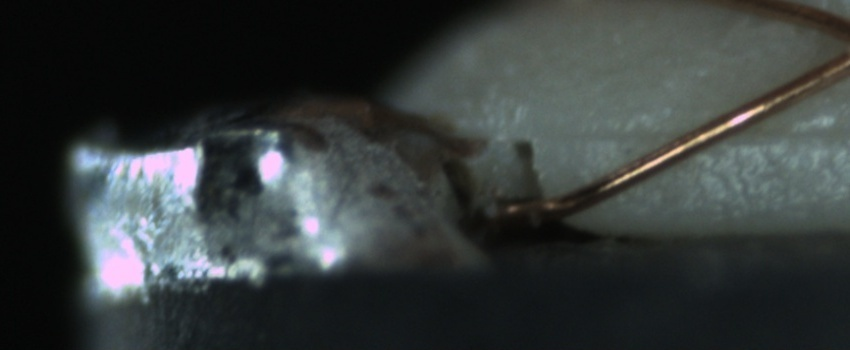CL: (832, 14, 850, 72)
DL: (569, 106, 848, 166)
